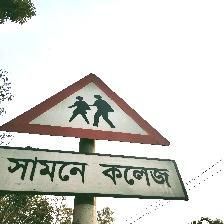College-in-front: (0, 56, 213, 224)
